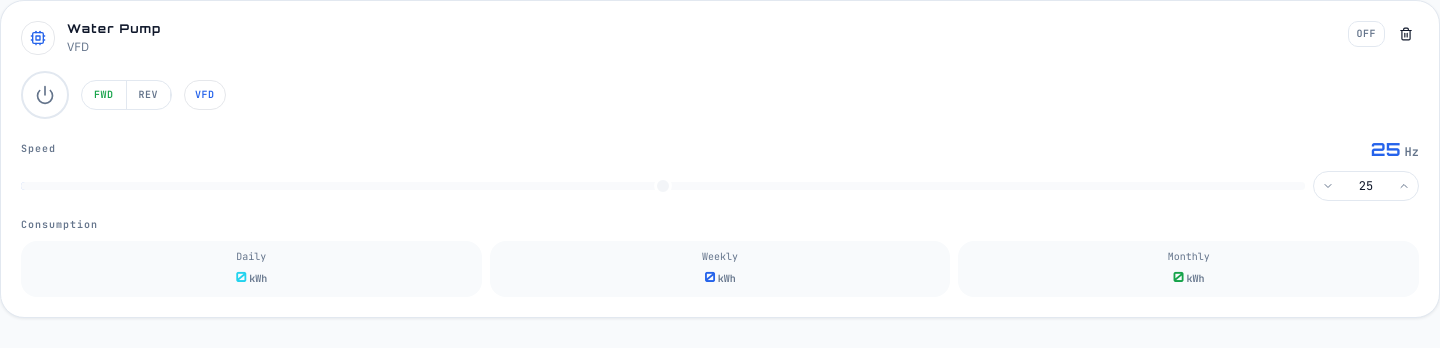
Test: OutputCard › toggles power on/off when clicking power button
This screenshot has width=1440, height=348.
Click the 2nd button at (45, 95), box [21,71,69,119]
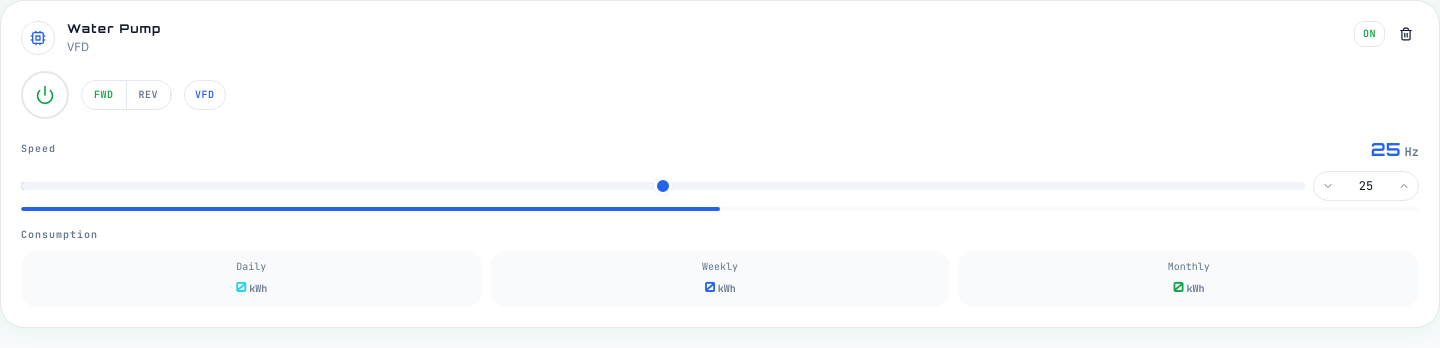
Expected: the text "ON" is shown, [1354,21,1385,47]
Click the 2nd button at (45, 95), box [21,71,69,119]
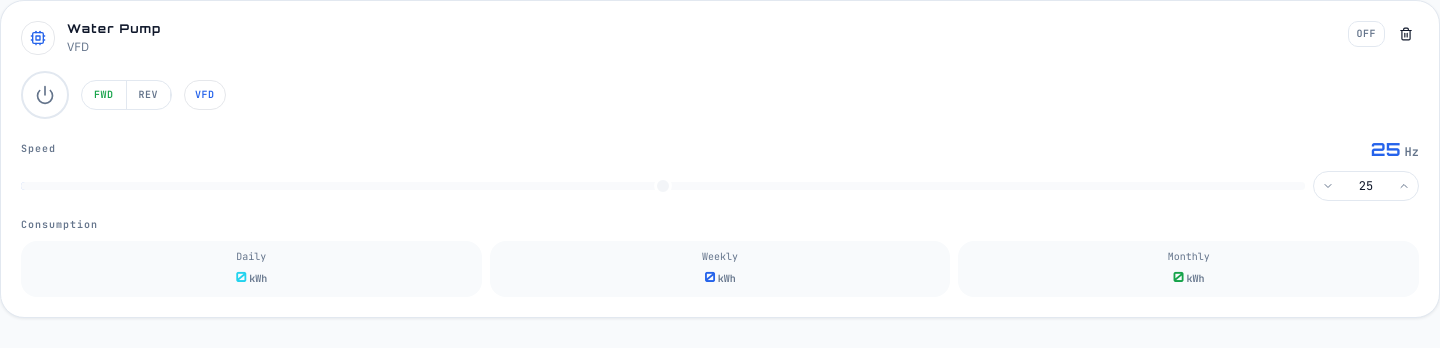
Now the text "OFF" is shown, box [1348,21,1385,47]
